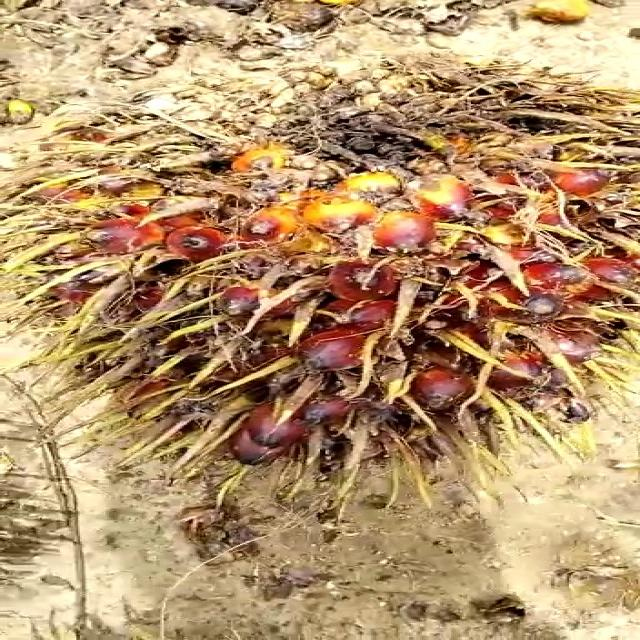palm oil: (19, 55, 640, 511)
